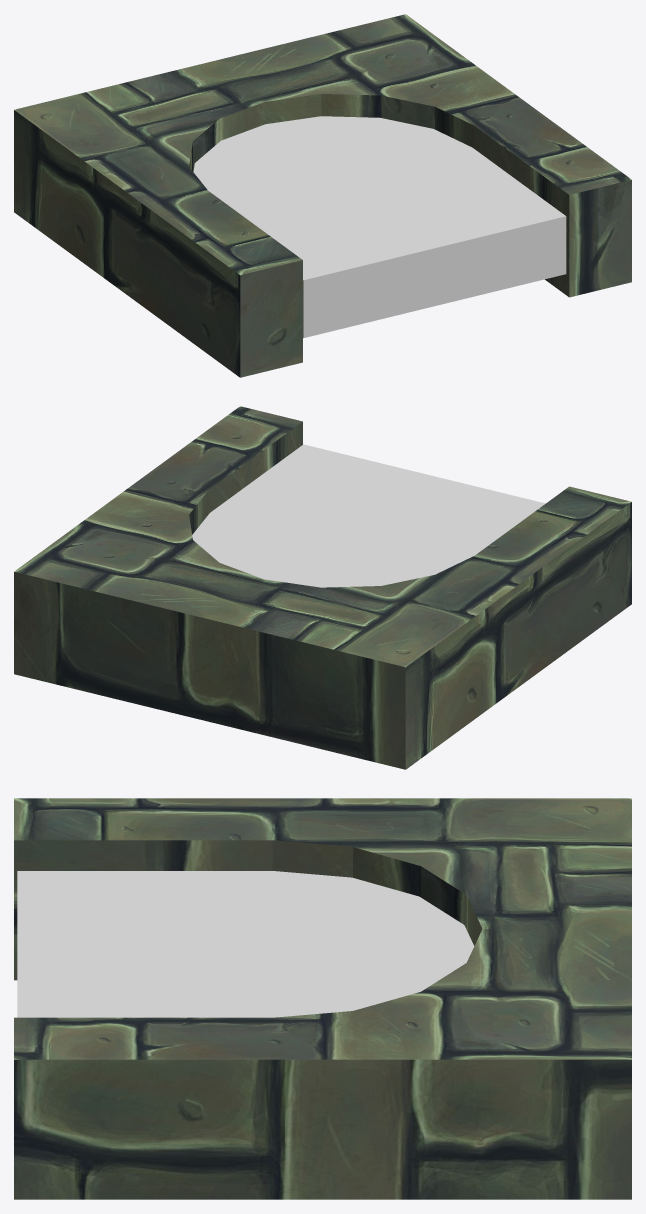
File: wall_door.fbx
3 renders of one model, top to bottom at view 1: azimuth 30°, elevation 25°; view 2: azimuth 150°, elevation 25°; view 3: azimuth 270°, elevation 25°, orthographic. The views are drawn at different scales.
Visible parts, largest first — view 1: Box001, Cube; view 2: Box001, Cube; view 3: Box001, Cube.
Boxes of the visible parts, <box> form: Box001: <box>14,14,631,377</box>; Cube: <box>193,116,566,338</box>; Box001: <box>14,406,631,769</box>; Cube: <box>192,444,545,587</box>; Box001: <box>14,798,631,1199</box>; Cube: <box>17,871,474,1017</box>.
Size of the model in its own units: 100 by 25 by 100.
1 material, 1 textured.
